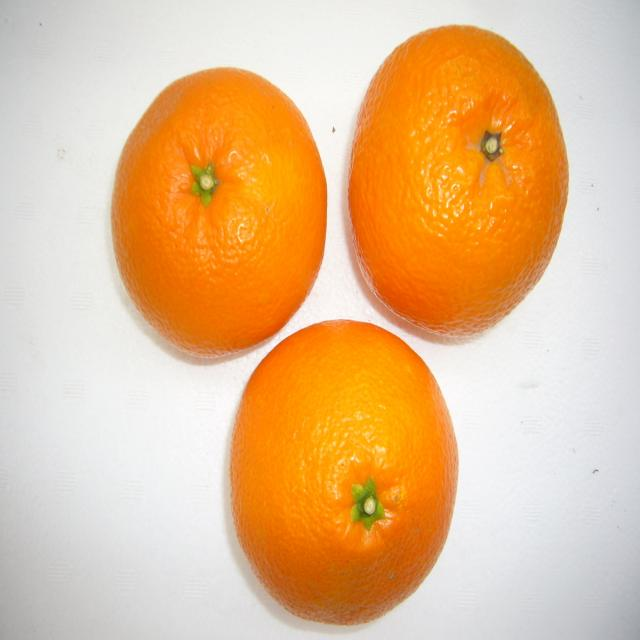Orange: (349, 24, 570, 341), (232, 319, 459, 625), (110, 63, 329, 360)
